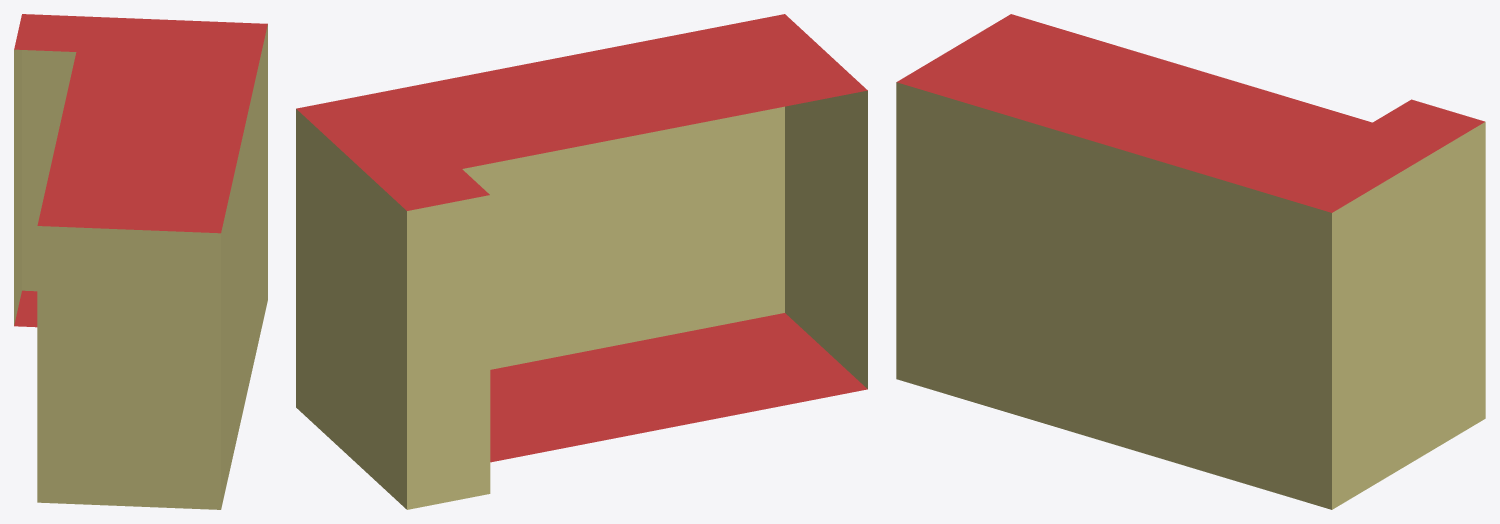
3 views of the same model, side by side, from view 1: azimuth 30°, elevation 25°; view 2: azimuth 150°, elevation 25°; view 3: azimuth 270°, elevation 25° (orthographic). The views are drawn at different scales.
Bounding box in the file's own units: 10.15 × 12.7 × 7.07.
